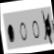correct: (7, 22, 15, 43)
not correct: (40, 6, 54, 47)
